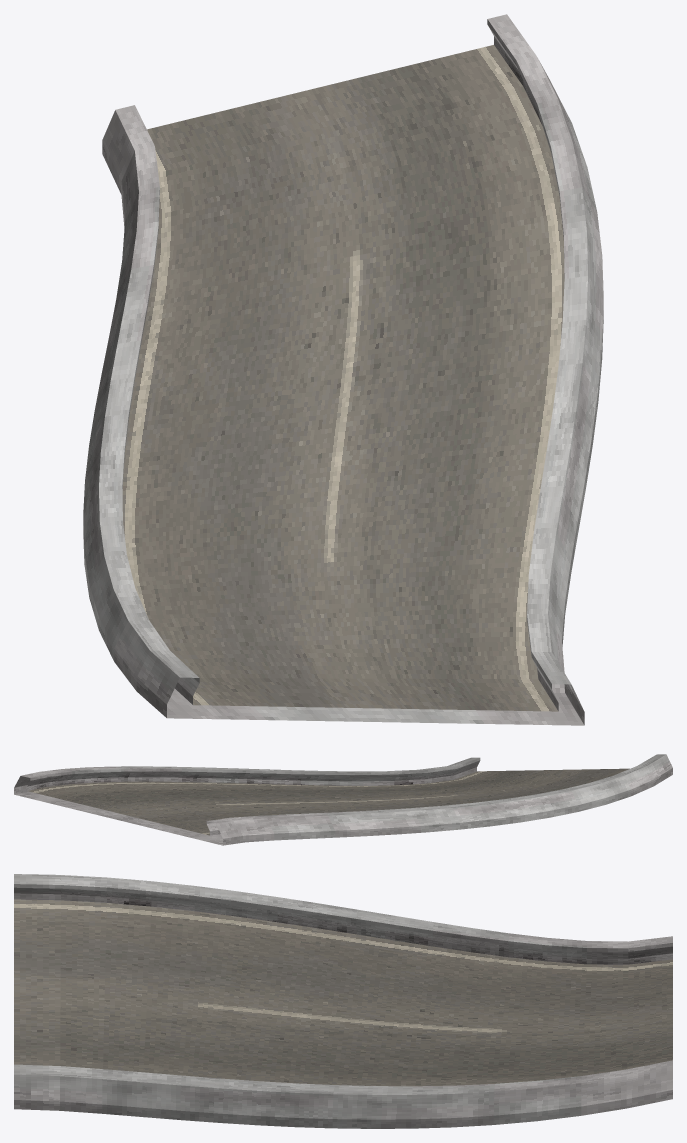
File: chicane-right1x2.glb
3 views of the same model, one above another, from view 1: azimuth 30°, elevation 25°; view 2: azimuth 150°, elevation 25°; view 3: azimuth 270°, elevation 25° (orthographic). The views are drawn at different scales.
Visible parts, largest first — view 1: road-Chicane-HalfBankedRight-BiSlopeUp-Up2-Right1-Size2; view 2: road-Chicane-HalfBankedRight-BiSlopeUp-Up2-Right1-Size2; view 3: road-Chicane-HalfBankedRight-BiSlopeUp-Up2-Right1-Size2.
Boxes of the visible parts, x1,y1,x2,y2 form: road-Chicane-HalfBankedRight-BiSlopeUp-Up2-Right1-Size2: (83,14,603,725); road-Chicane-HalfBankedRight-BiSlopeUp-Up2-Right1-Size2: (14,754,672,845); road-Chicane-HalfBankedRight-BiSlopeUp-Up2-Right1-Size2: (14,874,672,1128).
Size of the model in its own units: 2 by 0.5937 by 2.
2 materials, 2 textured.
